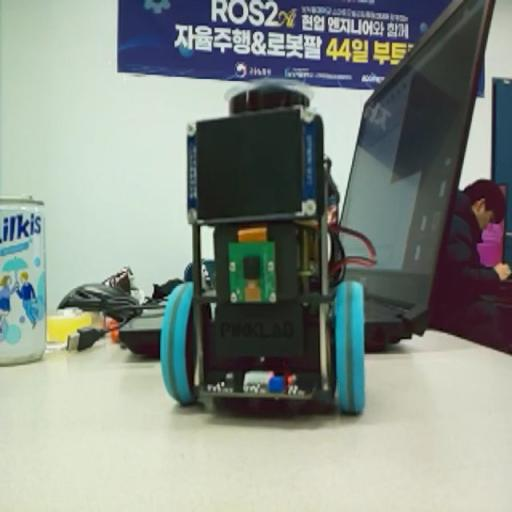pinky_63: (160, 83, 368, 428)
